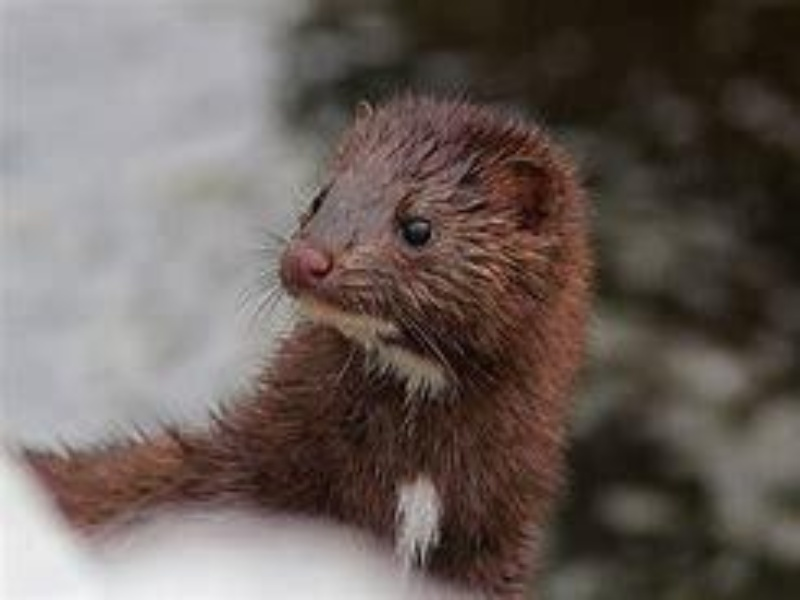minkish: (16, 87, 599, 592)
